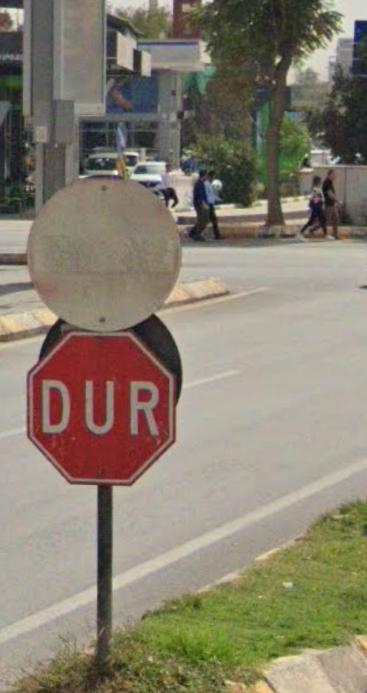stop: (30, 334, 172, 483)
